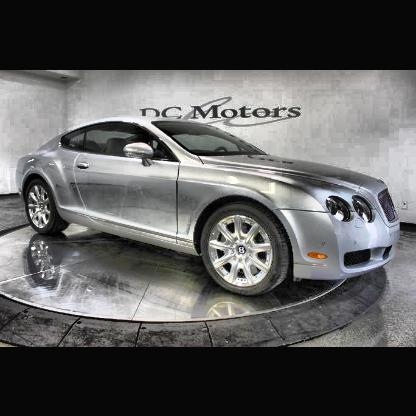Bentley Continental GT Coupe 2007: (15, 117, 401, 299)
